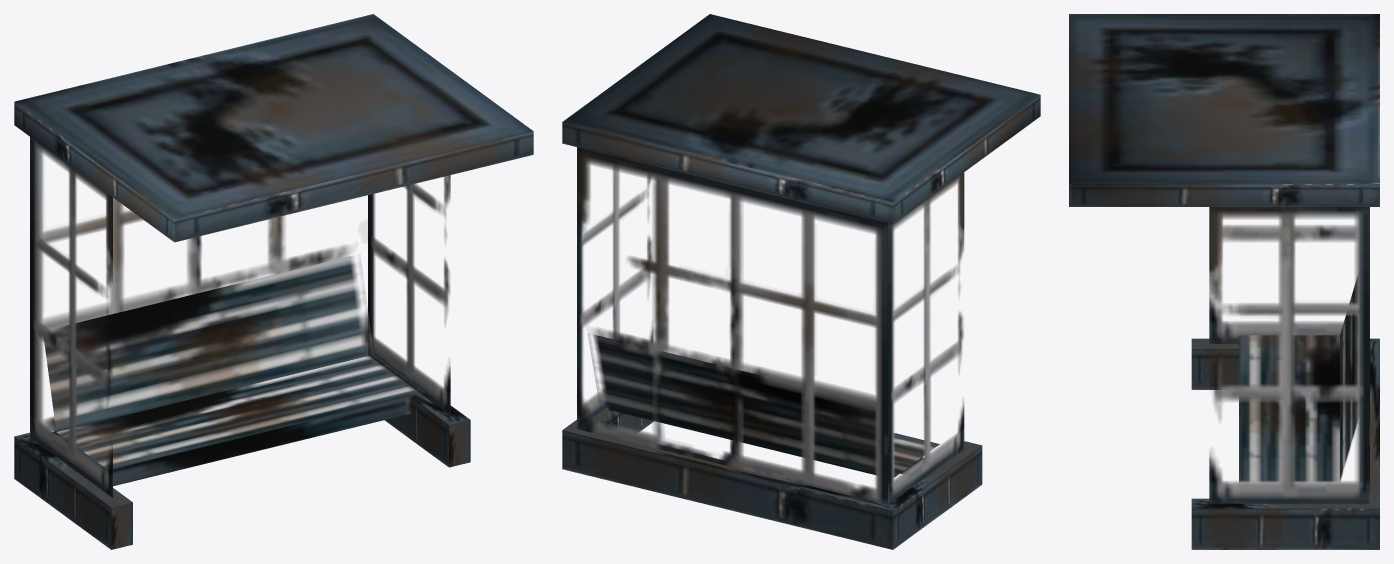
Rendered from USA - Prop - Bus Stop 02 - Damaged - PABusStop_d.glb.
The picture shows the model from 3 angles, left to right: view 1: azimuth 30°, elevation 25°; view 2: azimuth 150°, elevation 25°; view 3: azimuth 270°, elevation 25°; orthographic projection. The views are drawn at different scales.
Parts seen in each view (by area): view 1: PABUSSTOP_D; view 2: PABUSSTOP_D; view 3: PABUSSTOP_D.
Part boxes in pixels (<box>): PABUSSTOP_D: <box>14,14,533,549</box>; PABUSSTOP_D: <box>562,14,1040,549</box>; PABUSSTOP_D: <box>1069,14,1379,549</box>.
Size of the model in its own units: 14.31 by 14.37 by 11.06.
1 material, 1 textured.
